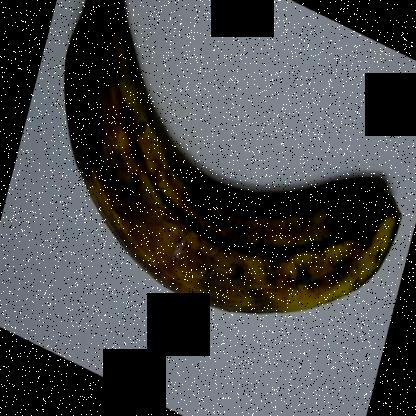overripe: (61, 1, 407, 327)
